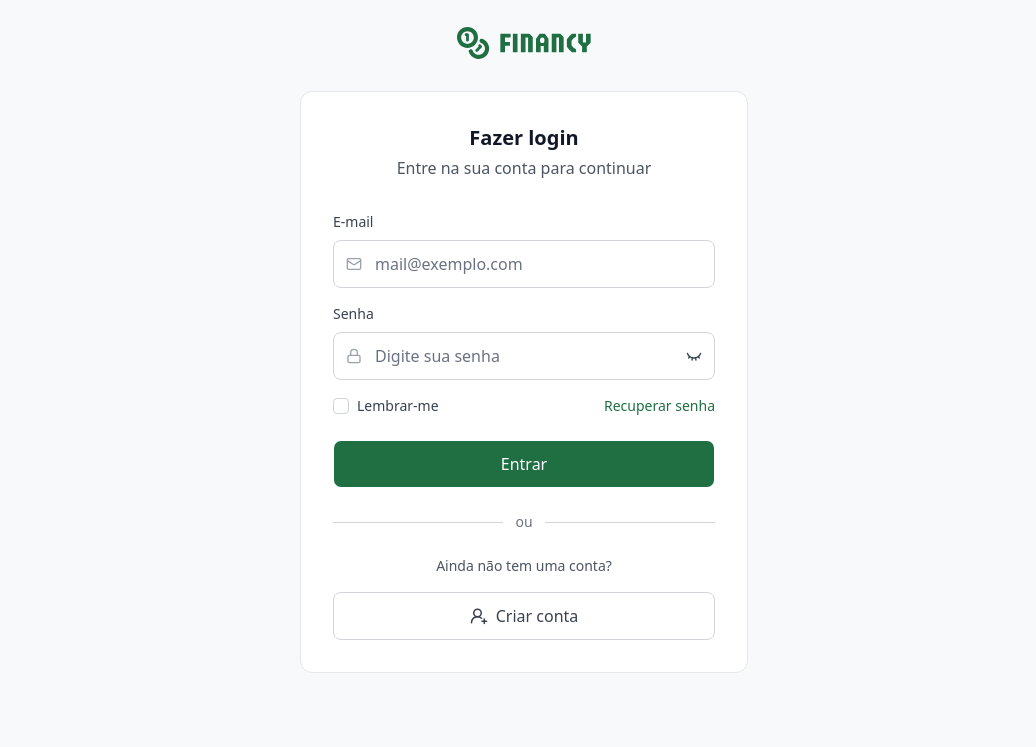
Test: login › exibe o erro da API e continua deslogado
Step 1. Type "ana@exemplo.com" into the field labelled "E-mail" → {"x": 524, "y": 264}, box 333,240 -> 715,288
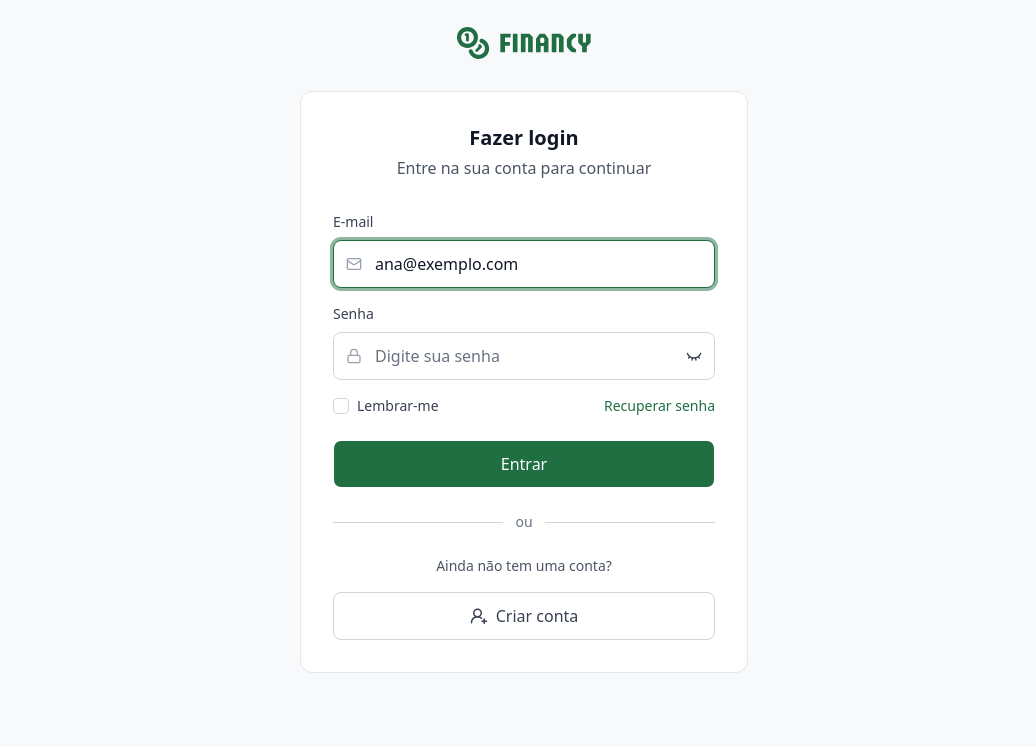
Step 2. Type "senha-forte-123" into the password field labelled "Senha" → {"x": 524, "y": 356}, box 333,332 -> 715,380
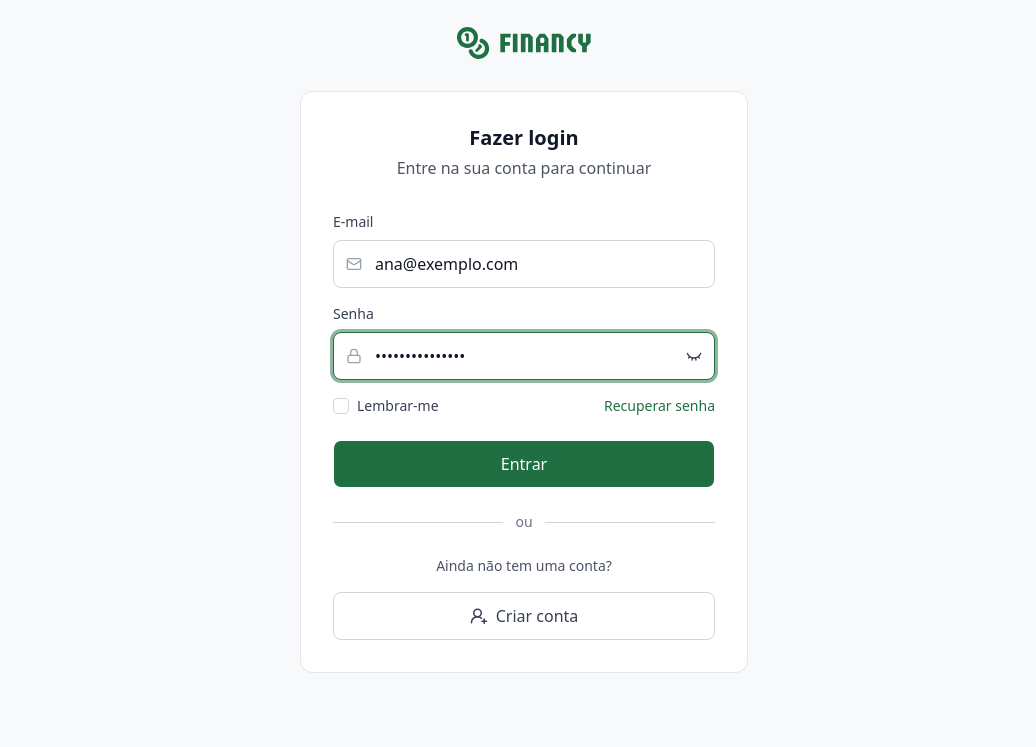
Step 3. Click the button "Entrar" → {"x": 524, "y": 464}, box 333,440 -> 715,488
(page scrolled)
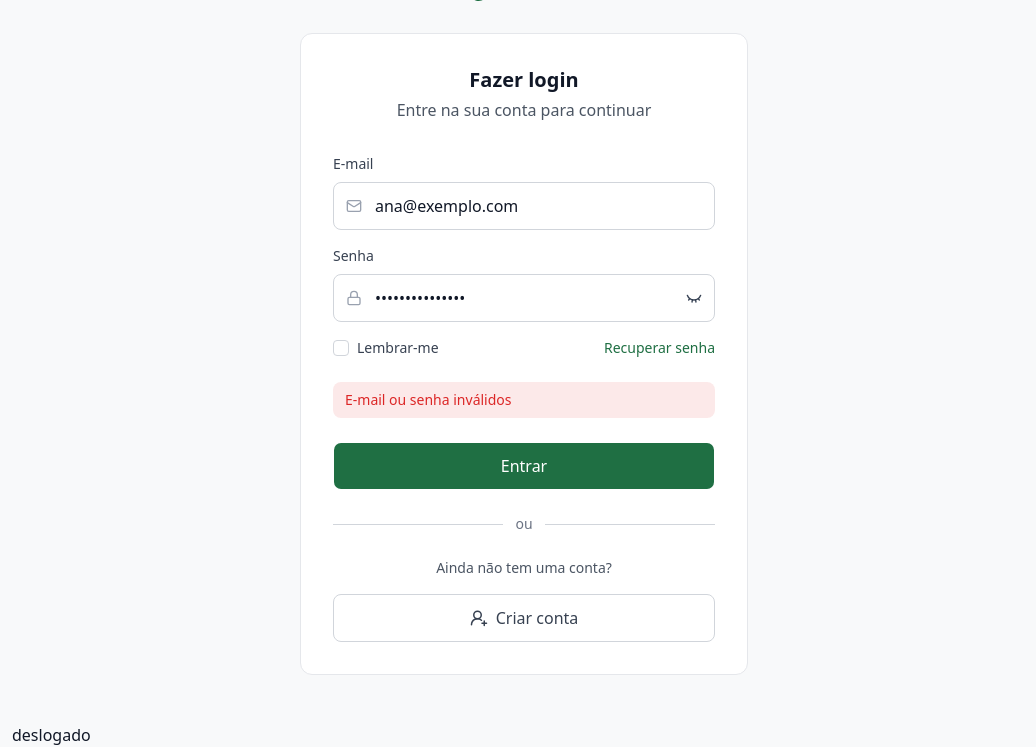
expect the text with test id "sessao" reads "deslogado": met, box 12,724 -> 91,746
expect the message reads "E-mail ou senha inválidos": met, box 345,390 -> 512,409
